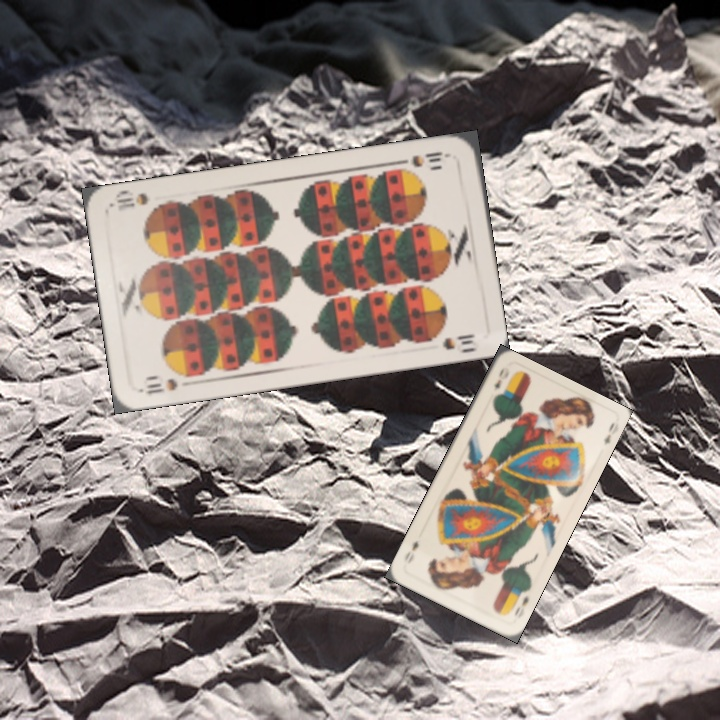EO: (504, 585, 532, 619), (489, 363, 512, 394)
S10: (136, 369, 194, 397), (408, 147, 453, 170)
